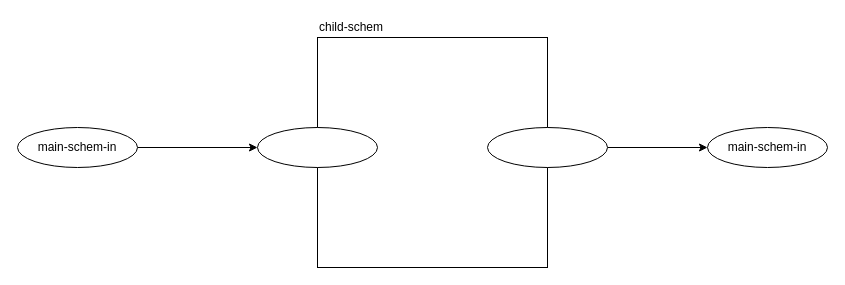
The diagram is 845 pixels wide and 285 high, and some of its shapes have lost their labels. The shapes that lost their labels are listed below. From the top down, each one's box as (x1, y1, x2, y2) in pixels, then its label:
(256, 126, 378, 168): child-schem-in
(486, 126, 608, 168): child-schem-out
